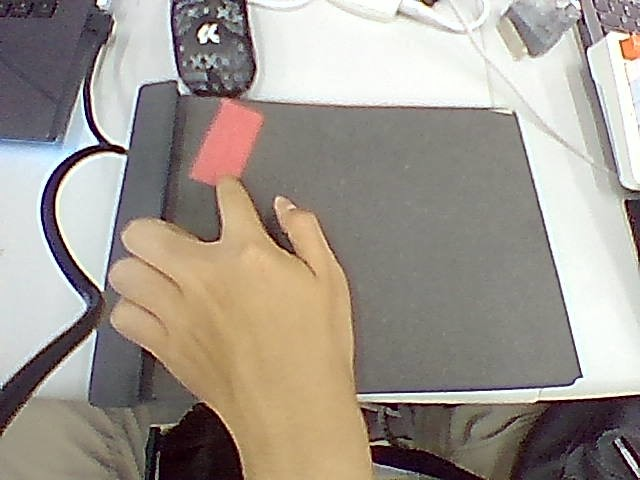card: (191, 100, 261, 184)
